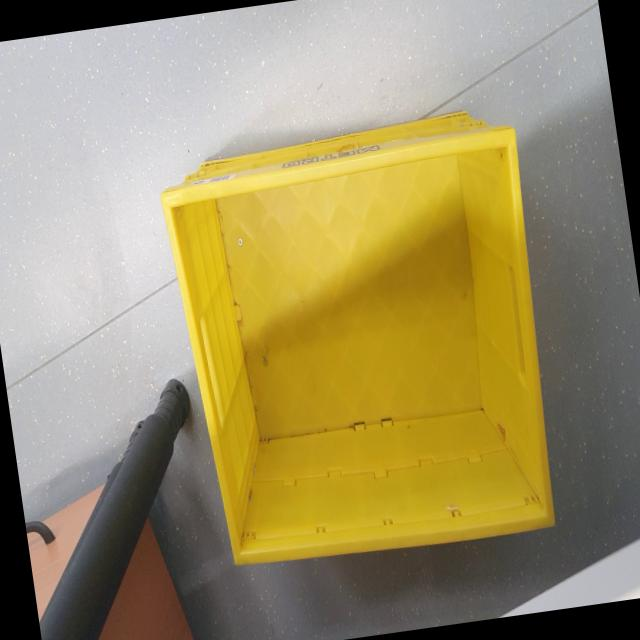box: (147, 80, 582, 594)
